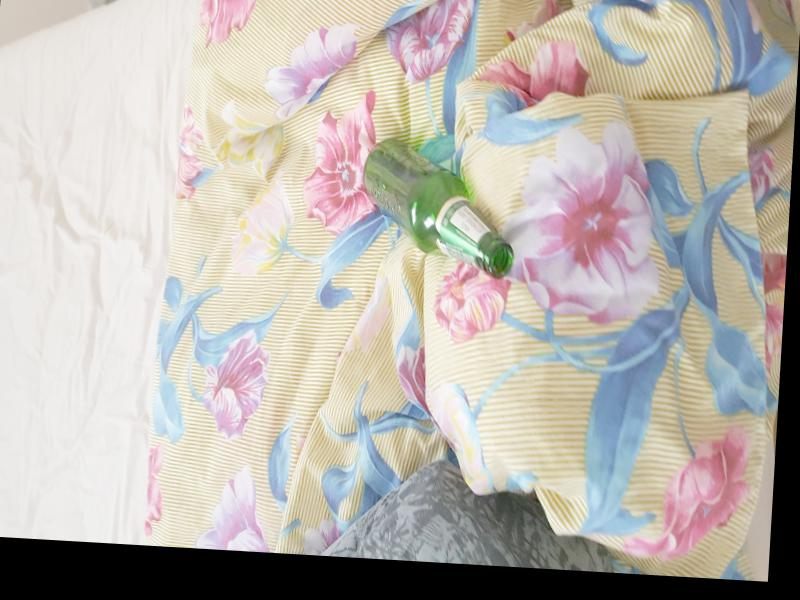Beer: (359, 136, 521, 276)
